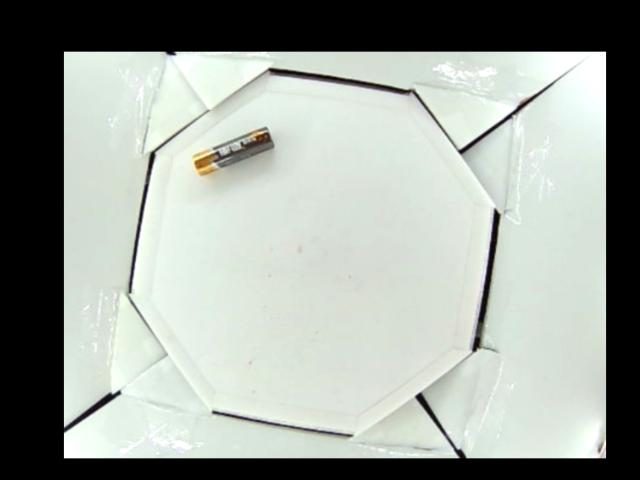Battery: (190, 126, 273, 175)
